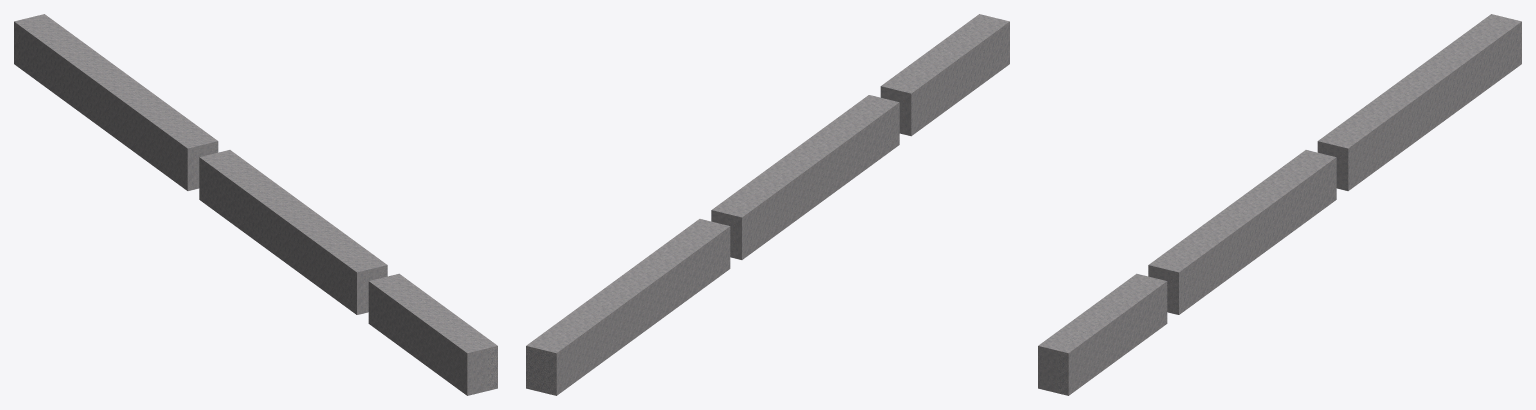
3 views of the same model, side by side, from view 1: azimuth 30°, elevation 25°; view 2: azimuth 150°, elevation 25°; view 3: azimuth 330°, elevation 25° (orthographic).
Visible parts, largest first — view 1: 0_3_1_2_2_0_0_0_3_0; view 2: 0_3_1_2_2_0_0_0_3_0; view 3: 0_3_1_2_2_0_0_0_3_0.
Boxes of the visible parts, x1,y1,x2,y2 form: 0_3_1_2_2_0_0_0_3_0: (14,14,497,395); 0_3_1_2_2_0_0_0_3_0: (526,14,1009,395); 0_3_1_2_2_0_0_0_3_0: (1038,14,1521,395).
Bounding box in the file's own units: 0.6 × 0.8 × 15.4.
Materials: 2 (2 with a texture image).
